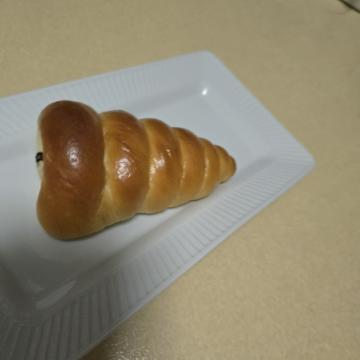cream horn: (88, 115, 257, 342)
